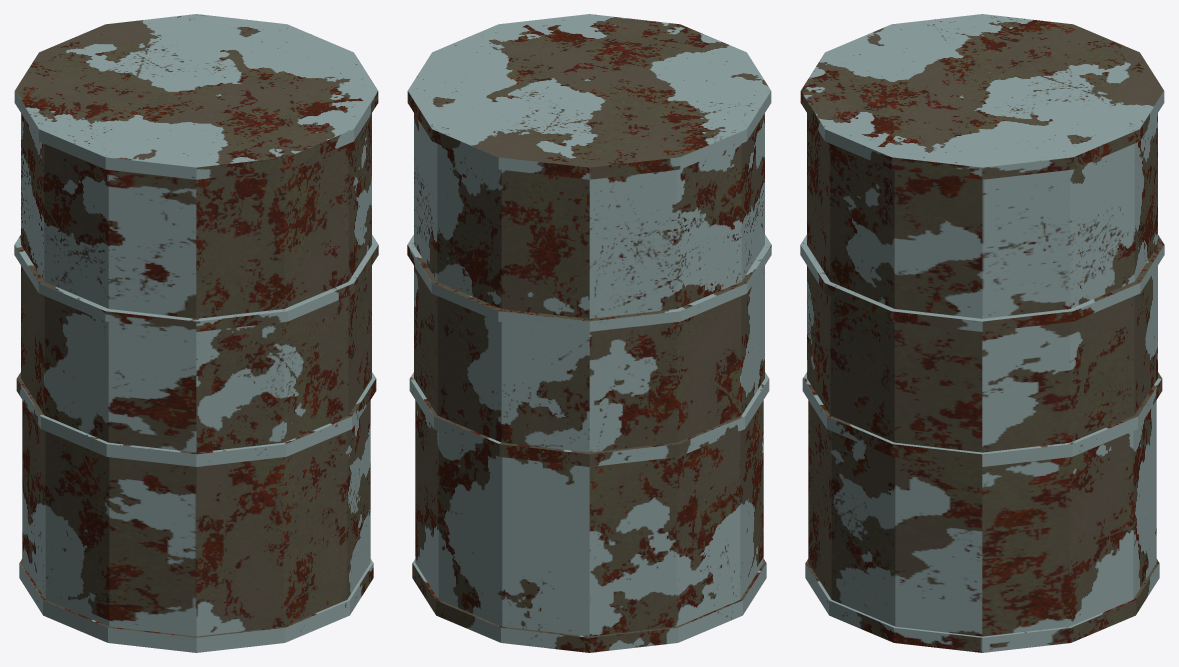
The model's file is bochka1.fbx.
3 views of the same model, side by side, from view 1: azimuth 30°, elevation 25°; view 2: azimuth 150°, elevation 25°; view 3: azimuth 270°, elevation 25° (orthographic).
Parts seen in each view (by area): view 1: Cylinder.001; view 2: Cylinder.001; view 3: Cylinder.001.
Boxes of the visible parts, box(x1,y1,x2,y2) form: Cylinder.001: box(14, 14, 378, 652); Cylinder.001: box(407, 14, 771, 652); Cylinder.001: box(800, 14, 1164, 652).
Bounding box in the file's own units: 207 × 306 × 207.
Materials: 1 (1 with a texture image).
